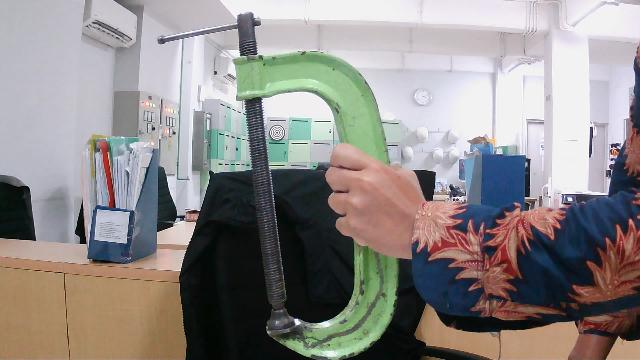tekiro_c_clamp: (151, 10, 410, 360)
